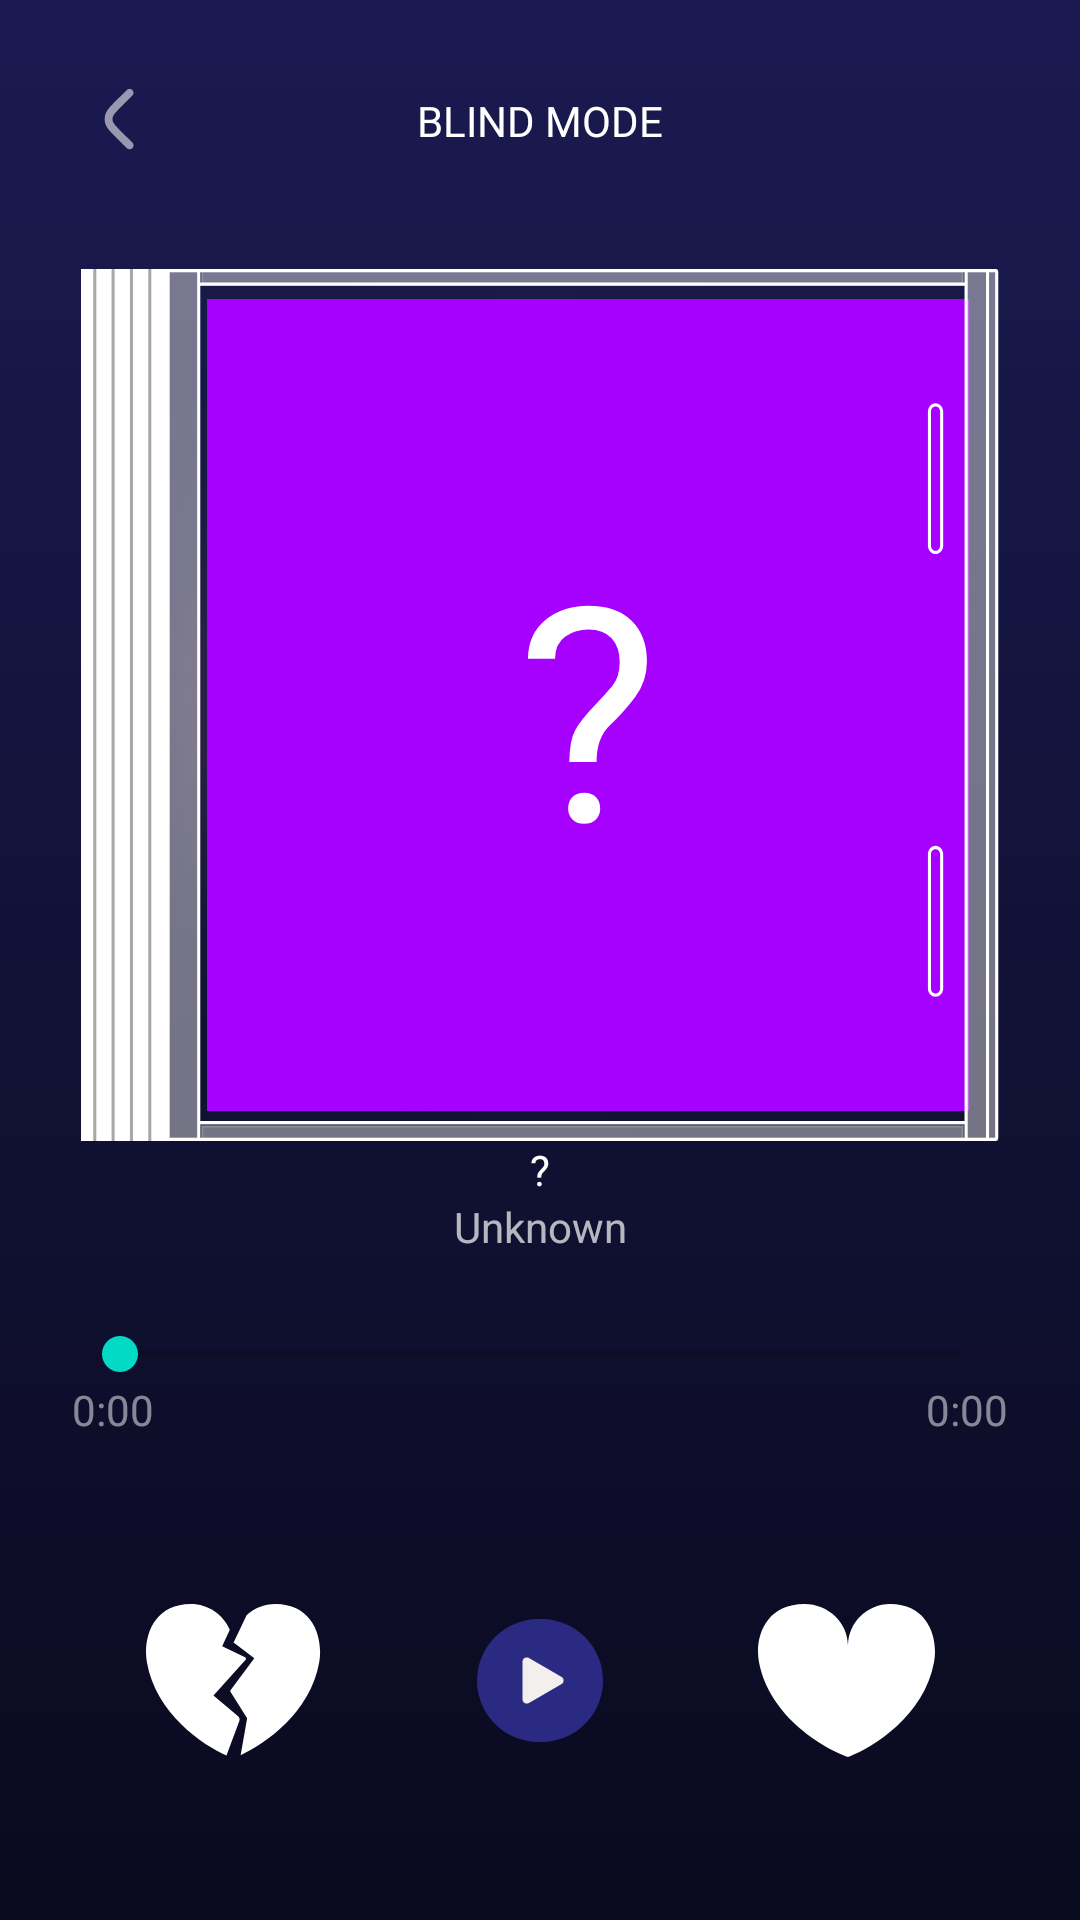

Named icons in this screenshot (1080 × 1920) and their centers, point (x, y):
back: point (119, 119)
dislike: point (233, 1680)
like: point (846, 1680)
play: point (540, 1680)
